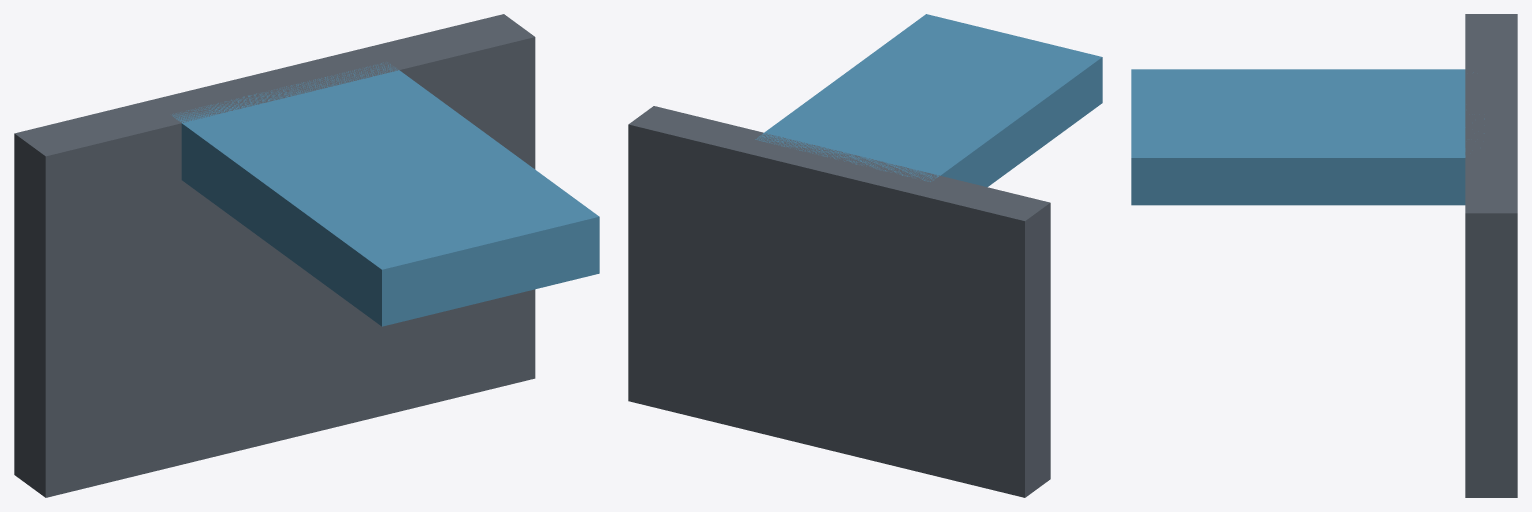
The model's file is charging_dock.glb.
3 views of the same model, side by side, from view 1: azimuth 30°, elevation 25°; view 2: azimuth 150°, elevation 25°; view 3: azimuth 270°, elevation 25° (orthographic). The views are drawn at different scales.
Visible parts, largest first — view 1: world; view 2: world; view 3: world.
Boxes of the visible parts, box(x1,y1,x2,y2) form: world: box(14, 14, 599, 497); world: box(628, 14, 1102, 497); world: box(1131, 14, 1517, 497).
Size of the model in its own units: 1.8 by 1.2 by 1.48.
